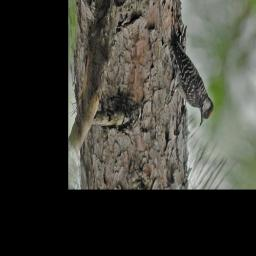Woodpecker: (168, 29, 214, 131)
